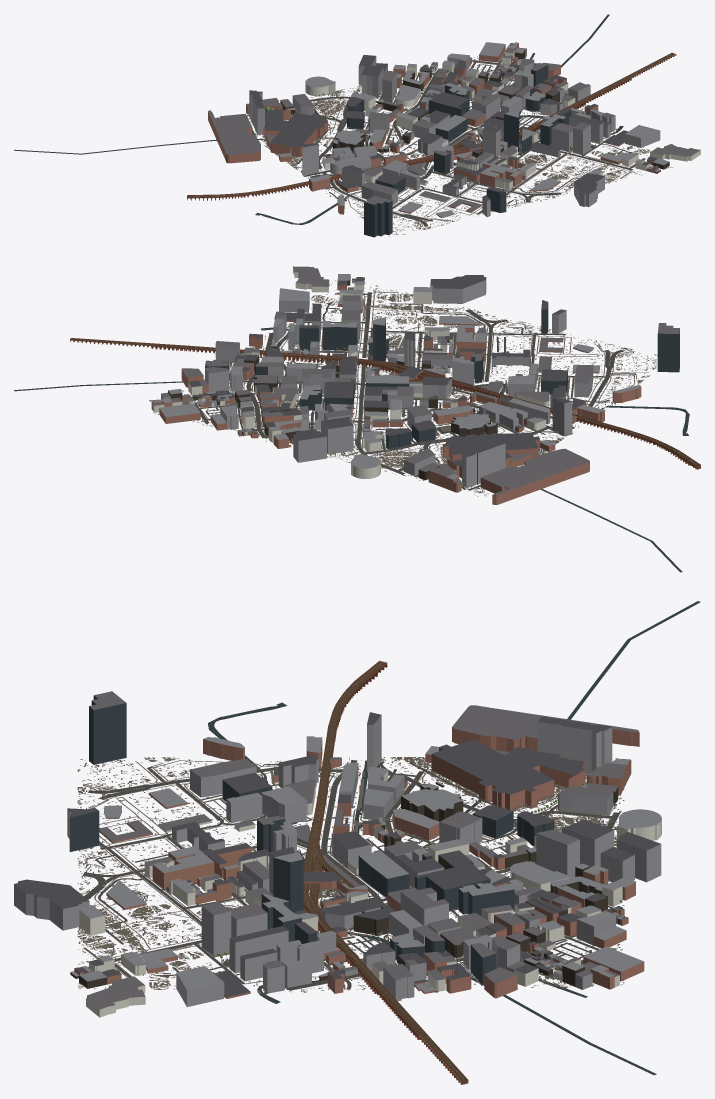
The model's file is context.glb.
The picture shows the model from 3 angles, top to bottom: view 1: azimuth 30°, elevation 25°; view 2: azimuth 150°, elevation 25°; view 3: azimuth 270°, elevation 25°; orthographic projection. The views are drawn at different scales.
Visible parts, largest first — view 1: bldg_23112318, road_27605679, road_783670, bldg_31176345, viaduct_31178960_deck; view 2: bldg_23112318, road_27605679, road_783670, bldg_31176345, viaduct_31178960_deck; view 3: bldg_23112318, road_27605679, road_783670, viaduct_31178960_deck, bldg_31176345.
Boxes of the visible parts, x1=… form: bldg_23112318: x1=14, y1=14, x2=700, y2=237; road_27605679: x1=247, y1=51, x2=672, y2=236; road_783670: x1=247, y1=50, x2=645, y2=226; bldg_31176345: x1=280, y1=49, x2=669, y2=173; viaduct_31178960_deck: x1=187, y1=53, x2=675, y2=197; bldg_23112318: x1=14, y1=266, x2=700, y2=572; road_27605679: x1=153, y1=280, x2=657, y2=496; road_783670: x1=186, y1=292, x2=636, y2=490; bldg_31176345: x1=168, y1=276, x2=497, y2=480; viaduct_31178960_deck: x1=70, y1=338, x2=700, y2=466; bldg_23112318: x1=14, y1=601, x2=700, y2=1084; road_27605679: x1=77, y1=757, x2=624, y2=995; road_783670: x1=82, y1=760, x2=620, y2=990; viaduct_31178960_deck: x1=303, y1=661, x2=468, y2=1082; bldg_31176345: x1=70, y1=782, x2=624, y2=988.
Size of the model in its own units: 1704 by 97.81 by 1015.
Materials: 5 (5 with a texture image).
